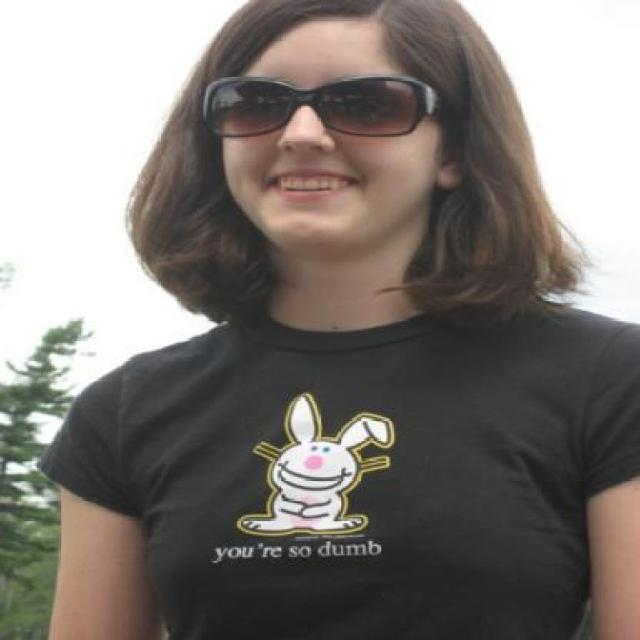face_nomask: (209, 78, 433, 214)
glasses: (200, 75, 472, 139)
person: (40, 9, 640, 640)
